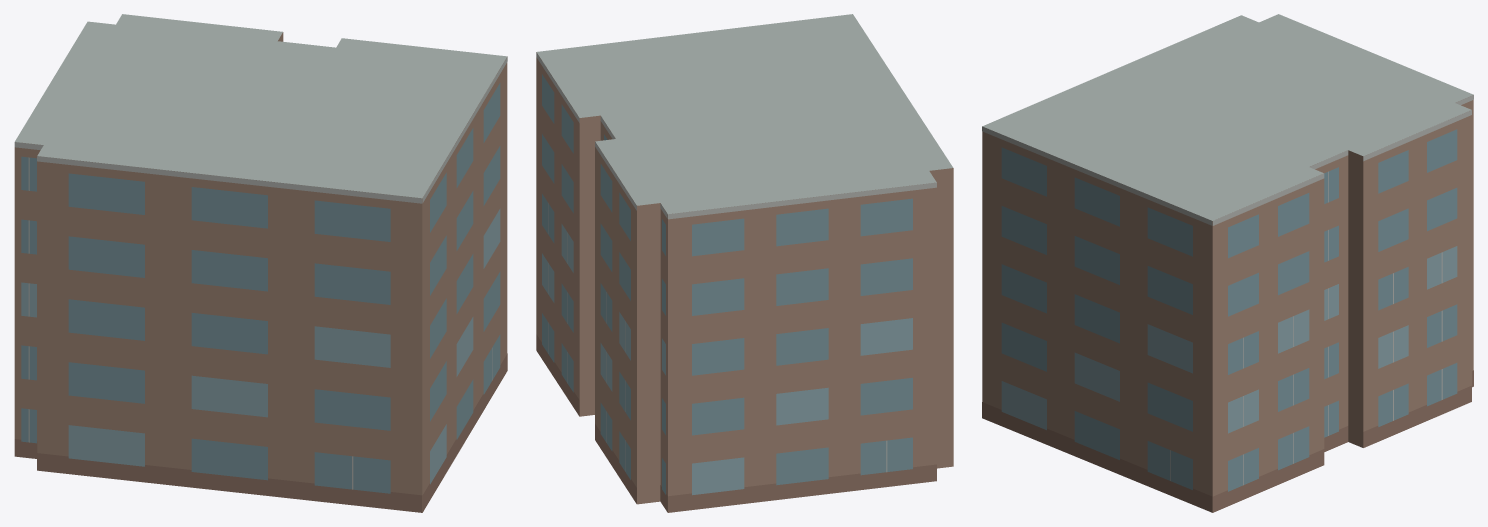
File: survey-upis-32643959.glb
The picture shows the model from 3 angles, left to right: view 1: azimuth 30°, elevation 25°; view 2: azimuth 150°, elevation 25°; view 3: azimuth 270°, elevation 25°; orthographic projection. The views are drawn at different scales.
Parts seen in each view (by area): view 1: survey-upis-32643959.tmp; view 2: survey-upis-32643959.tmp; view 3: survey-upis-32643959.tmp.
Boxes of the visible parts, <box> form: survey-upis-32643959.tmp: <box>14,14,507,512</box>; survey-upis-32643959.tmp: <box>536,14,953,512</box>; survey-upis-32643959.tmp: <box>982,14,1473,512</box>.
Bounding box in the file's own units: 21.54 × 14.15 × 21.61.
